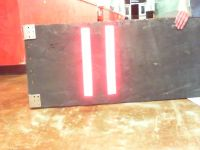switch: (80, 28, 94, 96), (104, 25, 117, 95)
